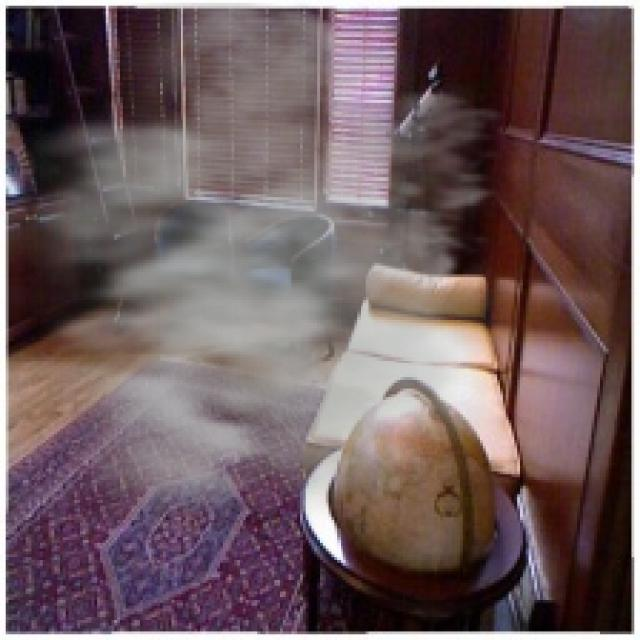smoke: (6, 3, 554, 546)
